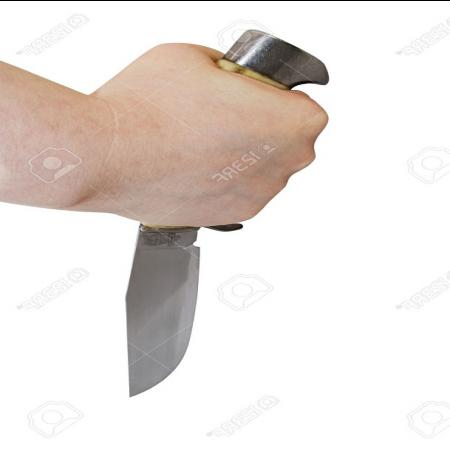long weapon: (115, 170, 283, 412)
